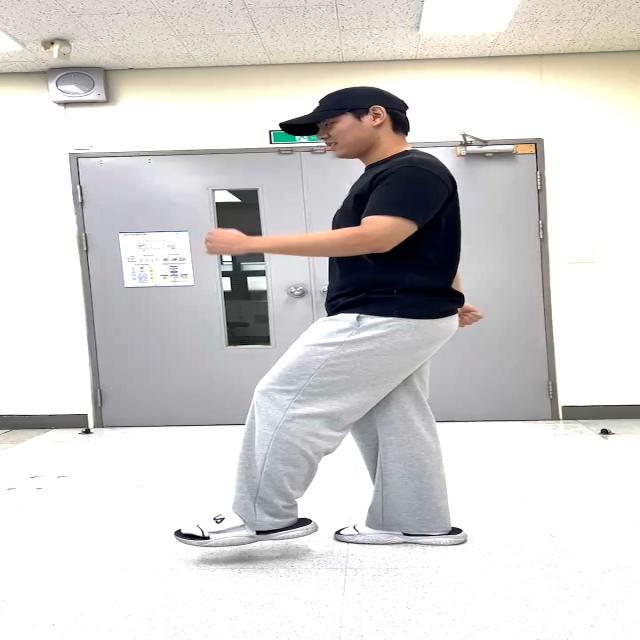leg: (205, 312, 374, 551)
